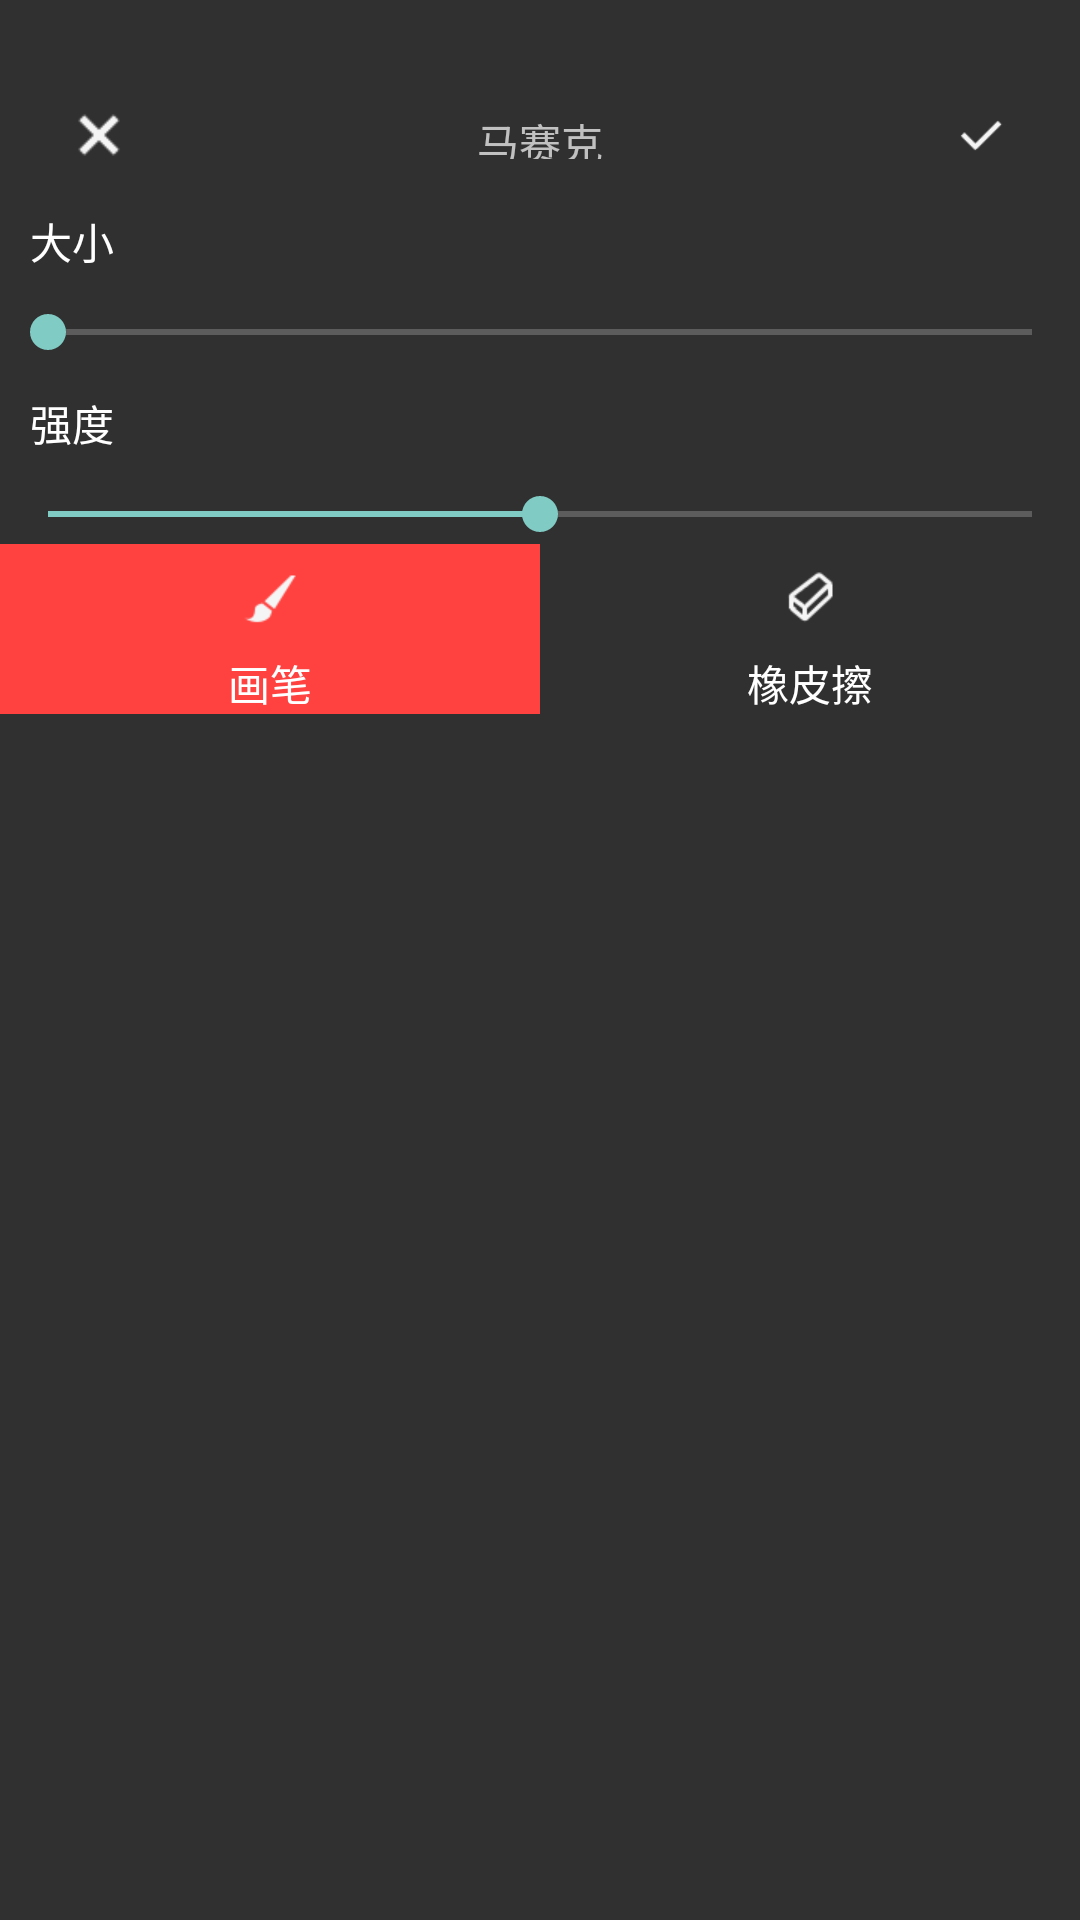

Icons on this 1080w x 1920h Android screen, each with its box as (x1, y1, x2, y2):
apply: (961, 121, 1002, 150)
cancel: (78, 114, 120, 156)
